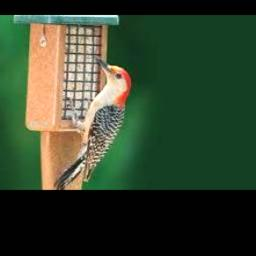Woodpecker: (54, 55, 131, 188)
